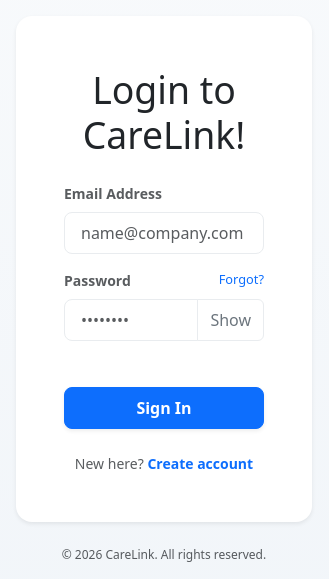
Scenario: Login Component - Data Driven › renders loading state when valid credentials are submitted
Type "user@carelink.com" into the field with placeholder "name@company.com" at point(164, 233), box [64,212,264,254]
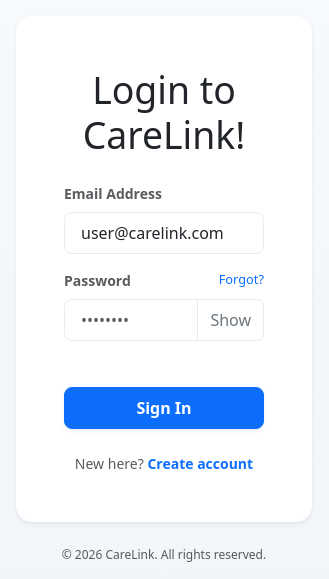
Type "Password123" into the password field with placeholder "••••••••" at point(131, 320), box [64,299,198,341]
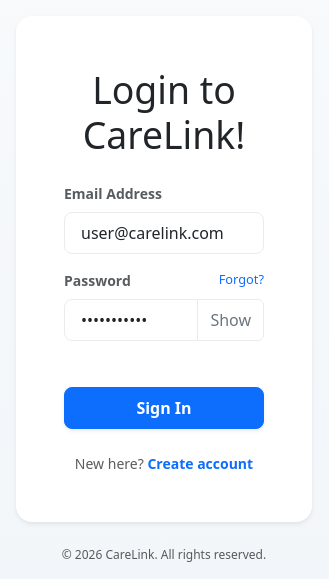
Click the button "Sign In" at point(164, 408), box [64,387,264,429]
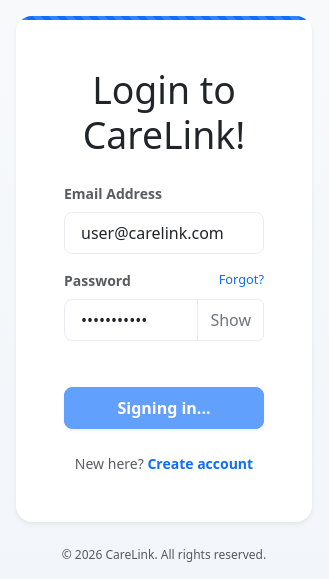
expect the button named "sign in" is disabled: met, box [64,387,264,429]
